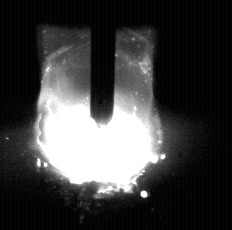arame: (92, 0, 115, 128)
poca: (36, 0, 164, 230)
